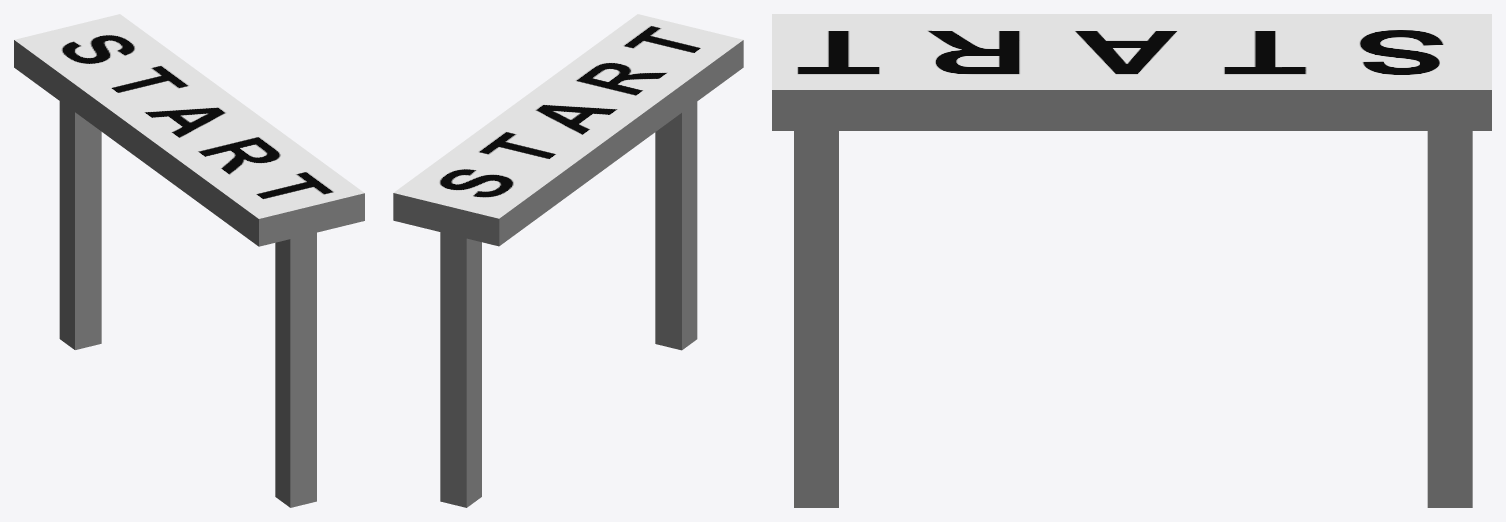
The model's file is startV2.fbx.
3 views of the same model, side by side, from view 1: azimuth 30°, elevation 25°; view 2: azimuth 150°, elevation 25°; view 3: azimuth 270°, elevation 25° (orthographic). The views are drawn at different scales.
Visible parts, largest first — view 1: Cube, Cube.001, Cube.002; view 2: Cube, Cube.002, Cube.001; view 3: Cube, Cube.002, Cube.001.
Boxes of the visible parts, x1,y1,x2,y2 form: Cube: (14,14,364,246); Cube.001: (275,232,316,507); Cube.002: (59,101,101,349); Cube: (393,14,743,246); Cube.002: (440,232,481,507); Cube.001: (655,102,697,350); Cube: (772,14,1491,130); Cube.002: (1427,131,1472,507); Cube.001: (794,131,838,507).
Size of the model in its own units: 1.6 by 4.38 by 6.4.
